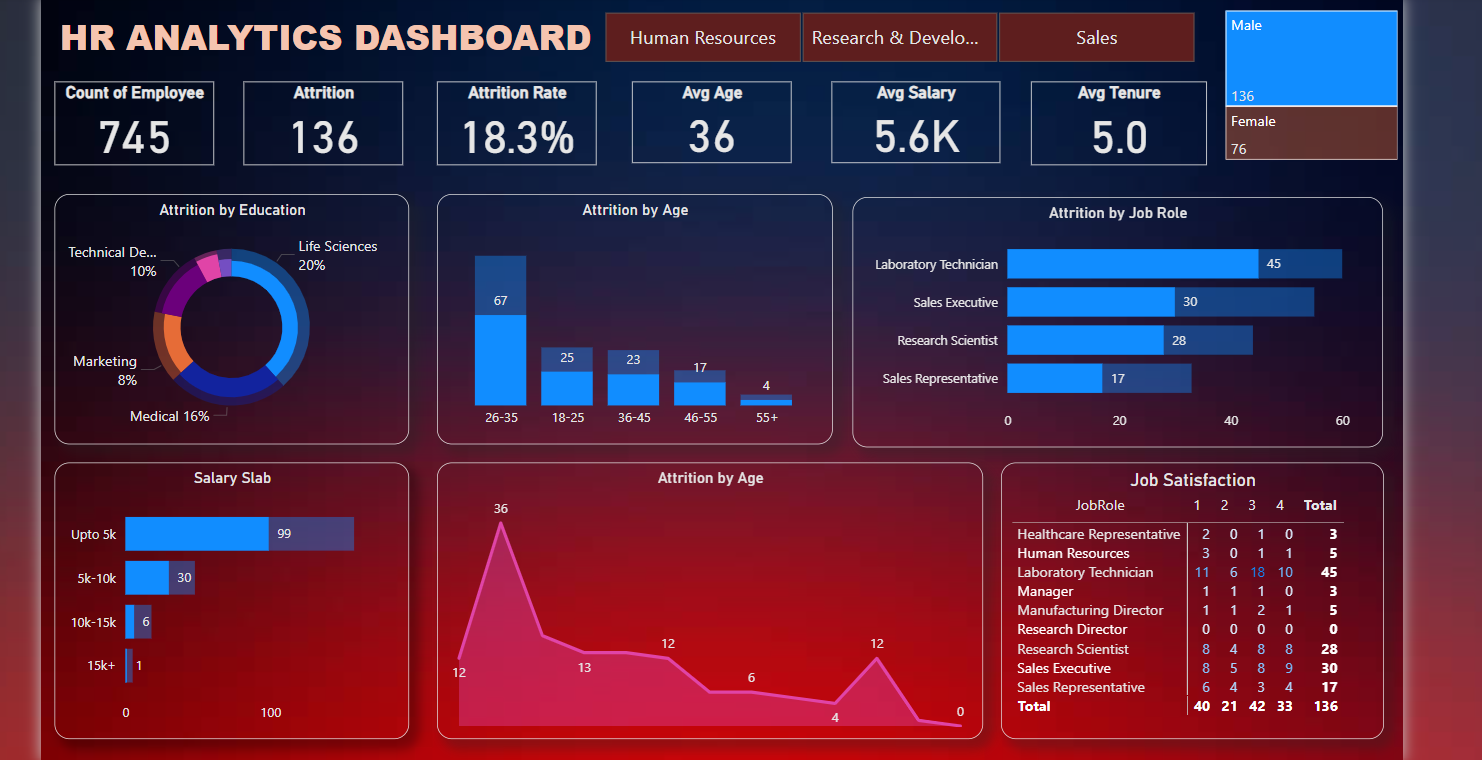

What the dashboard file says about the page in this screenshot:
{"tool":"powerbi","page":{"name":"Page 1","canvas":[1280,720],"ordinal":0},"visuals":[{"type":"card","title":"Count of Employee","fields":{"Values":["CountNonNull(HR_Analytics.EmpID)"]},"box":[13.3,80,150,78.3],"z":0},{"type":"card","title":"Attrition  ","fields":{"Values":["Sum(HR_Analytics.AttritionCount)"]},"box":[190,80,150,78.3],"z":1000},{"type":"card","title":"Attrition Rate","fields":{"Values":["HR_Analytics.AttritionRate"]},"box":[371.7,80,150,78.3],"z":2000},{"type":"card","title":"Avg Age","fields":{"Values":["HR_Analytics.AverageAge"]},"box":[555,80,150,76.7],"z":3000},{"type":"card","title":"Avg Salary","fields":{"Values":["Avg(HR_Analytics.MonthlyIncome)"]},"box":[743.3,80,158.3,76.7],"z":4000},{"type":"card","title":"Avg Age","fields":{"Values":["Avg(HR_Analytics.YearsAtCompany)"]},"box":[930,80,165,78.3],"z":5000},{"type":"donutChart","title":"Attrition  by Education","fields":{"Category":["HR_Analytics.EducationField"],"Y":["Sum(HR_Analytics.AttritionCount)"]},"box":[13.3,186.7,333.3,235],"z":6000},{"type":"columnChart","title":"Attrition  by Age","fields":{"Category":["HR_Analytics.AgeGroup"],"Y":["Sum(HR_Analytics.AttritionCount)"]},"box":[371.7,186.7,371.7,235],"z":7000},{"type":"pivotTable","title":"Job  Satisfaction","fields":{"Columns":["HR_Analytics.JobSatisfaction"],"Rows":["HR_Analytics.JobRole"],"Values":["Sum(HR_Analytics.AttritionCount)"]},"box":[901.7,438.3,360,260],"z":8000},{"type":"clusteredBarChart","title":"Salary Slab","fields":{"Y":["Sum(HR_Analytics.AttritionCount)"],"Category":["HR_Analytics.SalarySlab"]},"box":[13.3,438.3,333.3,260],"z":9000},{"type":"clusteredBarChart","title":"Attrition  by Job Role","fields":{"Category":["HR_Analytics.JobRole"],"Y":["Sum(HR_Analytics.AttritionCount)"]},"box":[763.3,188.3,498.3,235],"z":10000},{"type":"areaChart","title":"Attrition  by Age","fields":{"Category":["HR_Analytics.YearsAtCompany"],"Y":["Sum(HR_Analytics.AttritionCount)"]},"box":[371.7,438.3,513.3,260],"z":11000},{"type":"treemap","title":"Attrition  by Age","fields":{"Values":["Sum(HR_Analytics.AttritionCount)"],"Group":["HR_Analytics.Gender"]},"box":[1108.3,8.3,171.7,150],"z":12000},{"type":"slicer","fields":{"Values":["HR_Analytics.Department"]},"box":[505,8.3,603.3,60],"z":13000},{"type":"textbox","box":[13.3,10,546.7,60],"z":13001}]}

Visuals, with their boxes on the page's 1280x720 design canvas (x1, y1, x2, y2). These are canvas units, not pixel positions in the 1482x760 screenshot, which may show the page scaled, cropped or inside an application window:
"Count of Employee" card: region(13, 80, 163, 158)
"Attrition  " card: region(190, 80, 340, 158)
"Attrition Rate" card: region(372, 80, 522, 158)
"Avg Age" card: region(555, 80, 705, 157)
"Avg Salary" card: region(743, 80, 902, 157)
"Avg Age" card: region(930, 80, 1095, 158)
"Attrition  by Education" donutChart: region(13, 187, 347, 422)
"Attrition  by Age" columnChart: region(372, 187, 743, 422)
"Job  Satisfaction" pivotTable: region(902, 438, 1262, 698)
"Salary Slab" clusteredBarChart: region(13, 438, 347, 698)
"Attrition  by Job Role" clusteredBarChart: region(763, 188, 1262, 423)
"Attrition  by Age" areaChart: region(372, 438, 885, 698)
"Attrition  by Age" treemap: region(1108, 8, 1280, 158)
slicer - HR_Analytics.Department: region(505, 8, 1108, 68)
textbox: region(13, 10, 560, 70)
